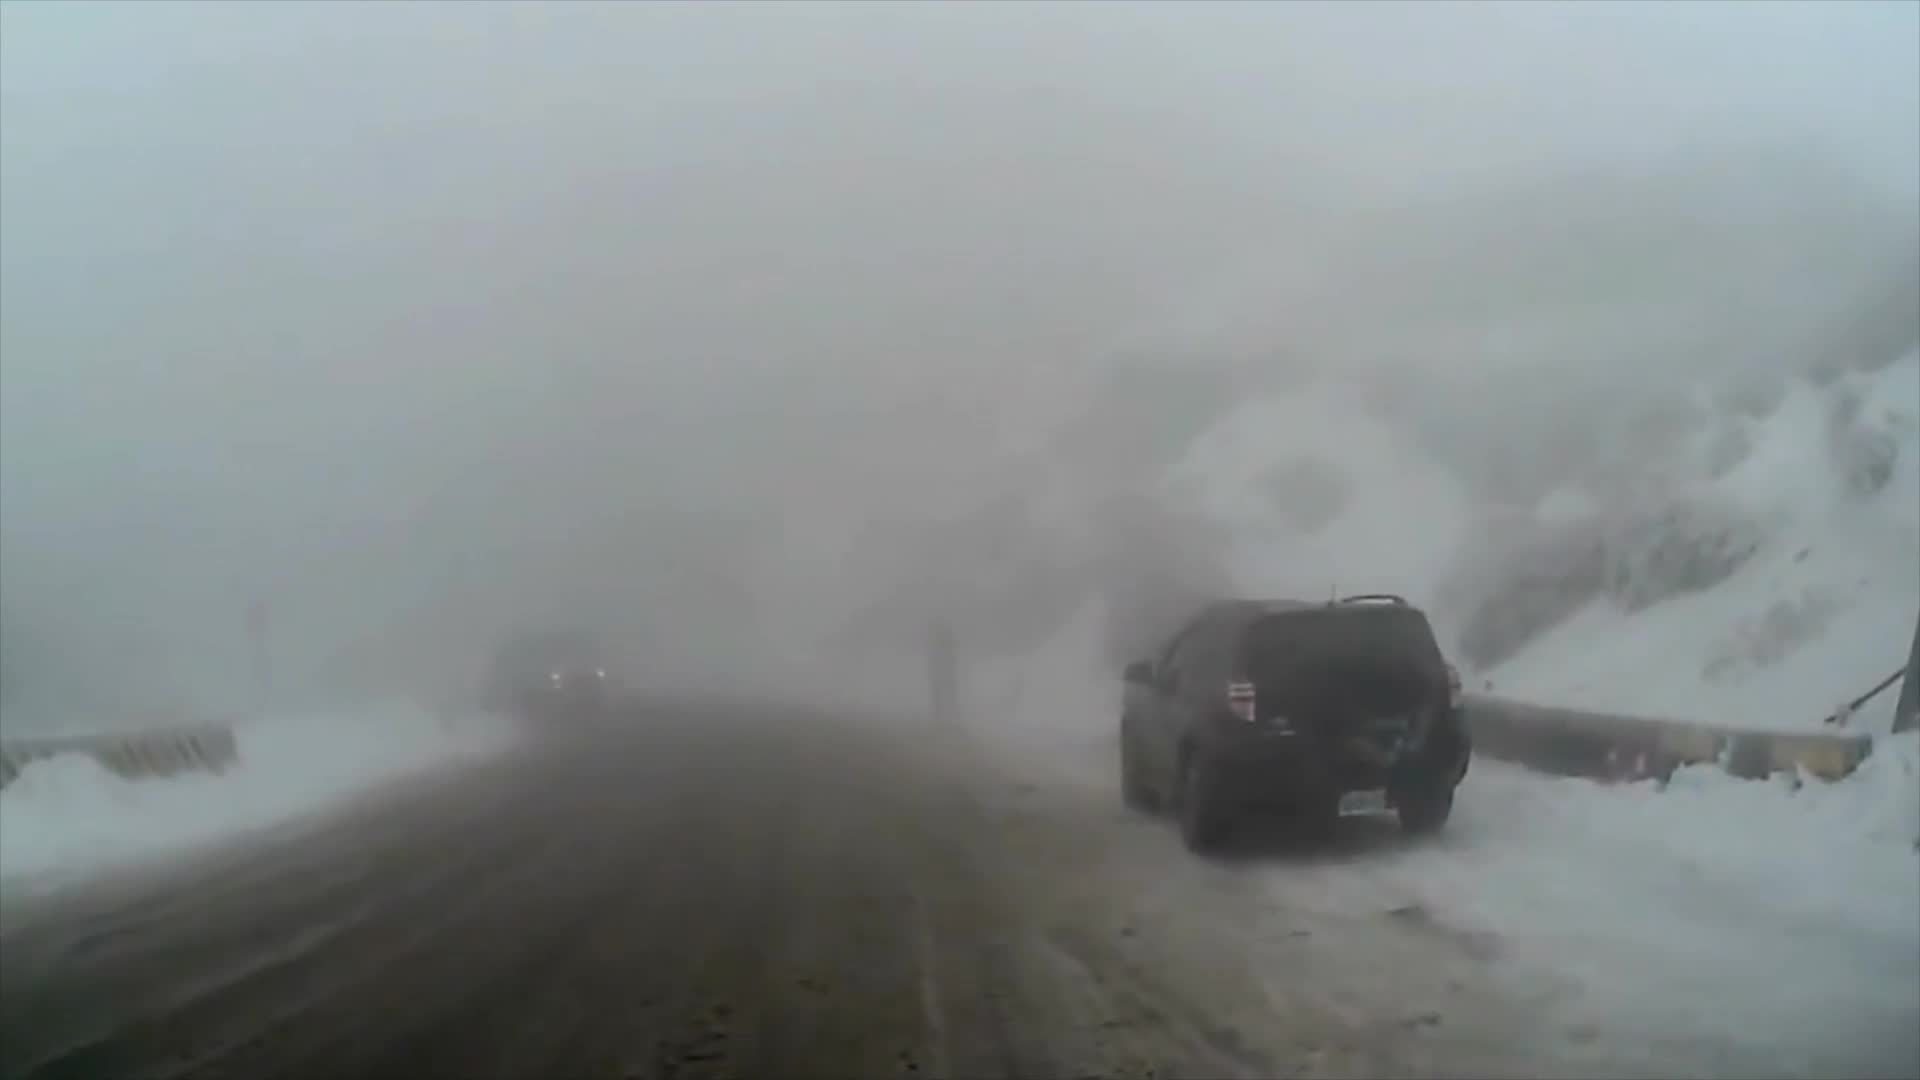vehicle: (1116, 584, 1474, 857)
